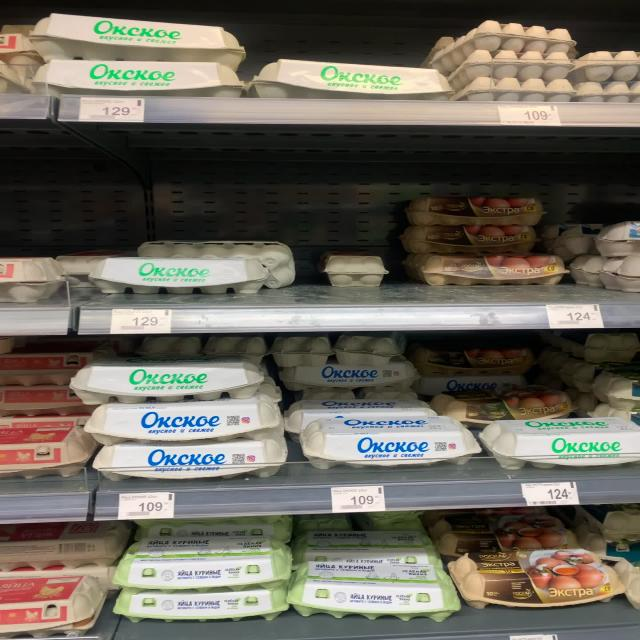egg box: (32, 13, 240, 66), (450, 546, 622, 609), (107, 540, 293, 590), (71, 364, 275, 408), (288, 564, 448, 620), (96, 435, 286, 479), (35, 57, 242, 97), (304, 419, 476, 467), (84, 401, 280, 442), (89, 253, 268, 297), (253, 61, 455, 98), (483, 418, 632, 467), (423, 255, 567, 289), (405, 195, 544, 226), (288, 362, 414, 391), (404, 224, 544, 247)
